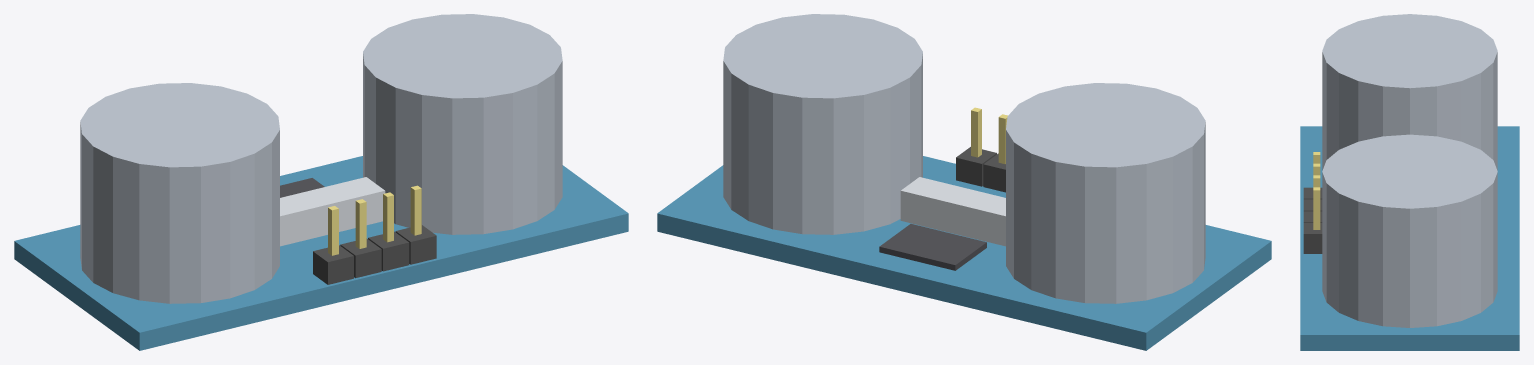
File: hc-sr04-ultrasonic.glb
The picture shows the model from 3 angles, left to right: view 1: azimuth 30°, elevation 25°; view 2: azimuth 150°, elevation 25°; view 3: azimuth 270°, elevation 25°; orthographic projection. The views are drawn at different scales.
Visible parts, largest first — view 1: hc-sr04-ultrasonic_mesh; view 2: hc-sr04-ultrasonic_mesh; view 3: hc-sr04-ultrasonic_mesh.
Boxes of the visible parts, bbox=[...] form: hc-sr04-ultrasonic_mesh: bbox=[14, 14, 628, 350]; hc-sr04-ultrasonic_mesh: bbox=[657, 14, 1271, 350]; hc-sr04-ultrasonic_mesh: bbox=[1300, 14, 1519, 350].
Size of the model in its own units: 45 by 13.6 by 20.
